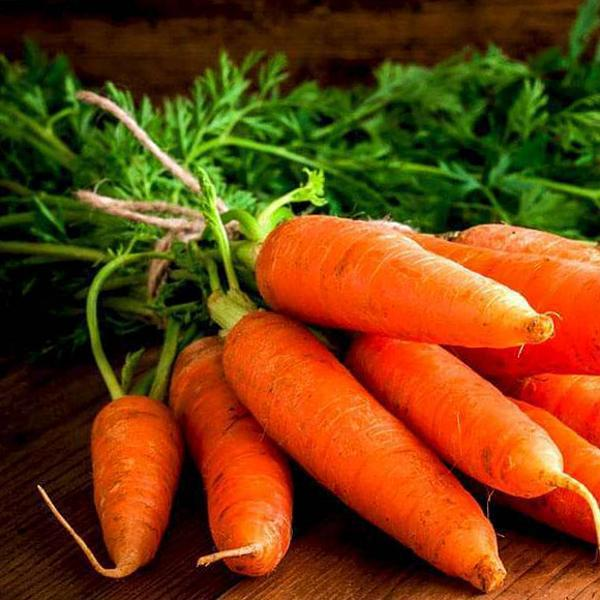carrot: (19, 95, 600, 600), (206, 285, 566, 600), (84, 266, 295, 596), (249, 205, 556, 361)
